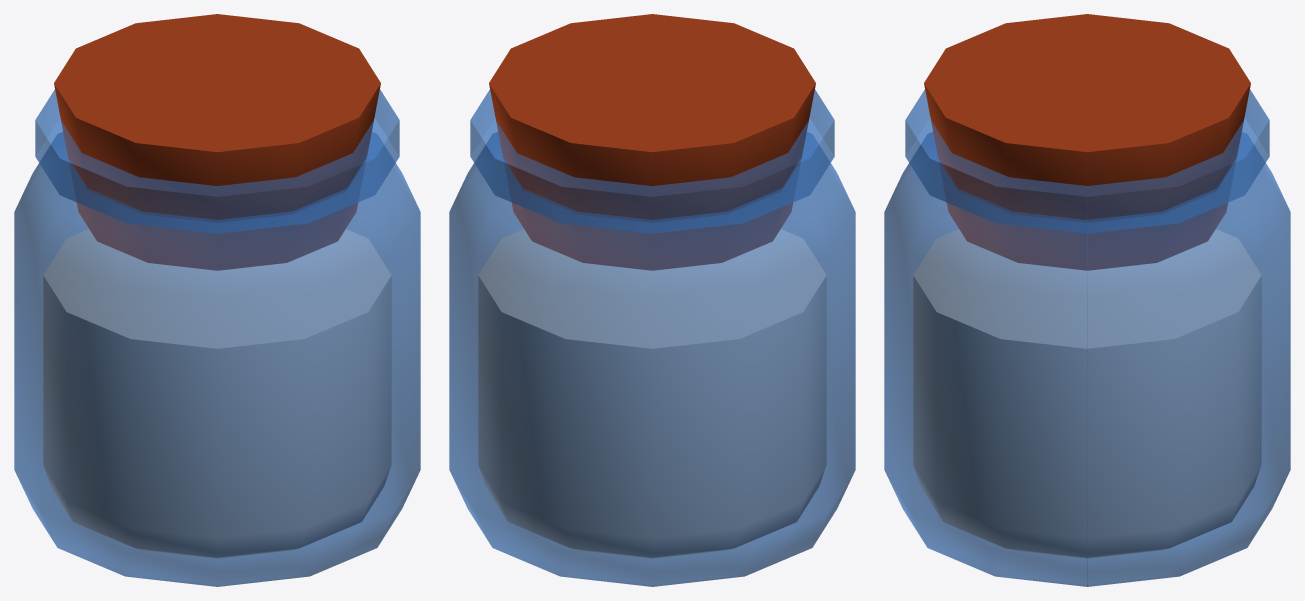
The model's file is milk_bottle.obj.
3 views of the same model, side by side, from view 1: azimuth 30°, elevation 25°; view 2: azimuth 150°, elevation 25°; view 3: azimuth 270°, elevation 25° (orthographic).
Visible parts, largest first — view 1: Cylinder, Cylinder.002, Cylinder.001; view 2: Cylinder, Cylinder.002, Cylinder.001; view 3: Cylinder, Cylinder.002, Cylinder.001.
Boxes of the visible parts, box(x1,y1,x2,y2) form: Cylinder: box(14, 89, 420, 586); Cylinder.002: box(43, 229, 391, 558); Cylinder.001: box(54, 14, 380, 270); Cylinder: box(449, 89, 855, 586); Cylinder.002: box(478, 229, 826, 558); Cylinder.001: box(489, 14, 815, 270); Cylinder: box(884, 89, 1290, 586); Cylinder.002: box(913, 229, 1261, 558); Cylinder.001: box(924, 14, 1250, 270).
Size of the model in its own units: 2 by 2.4 by 2.
